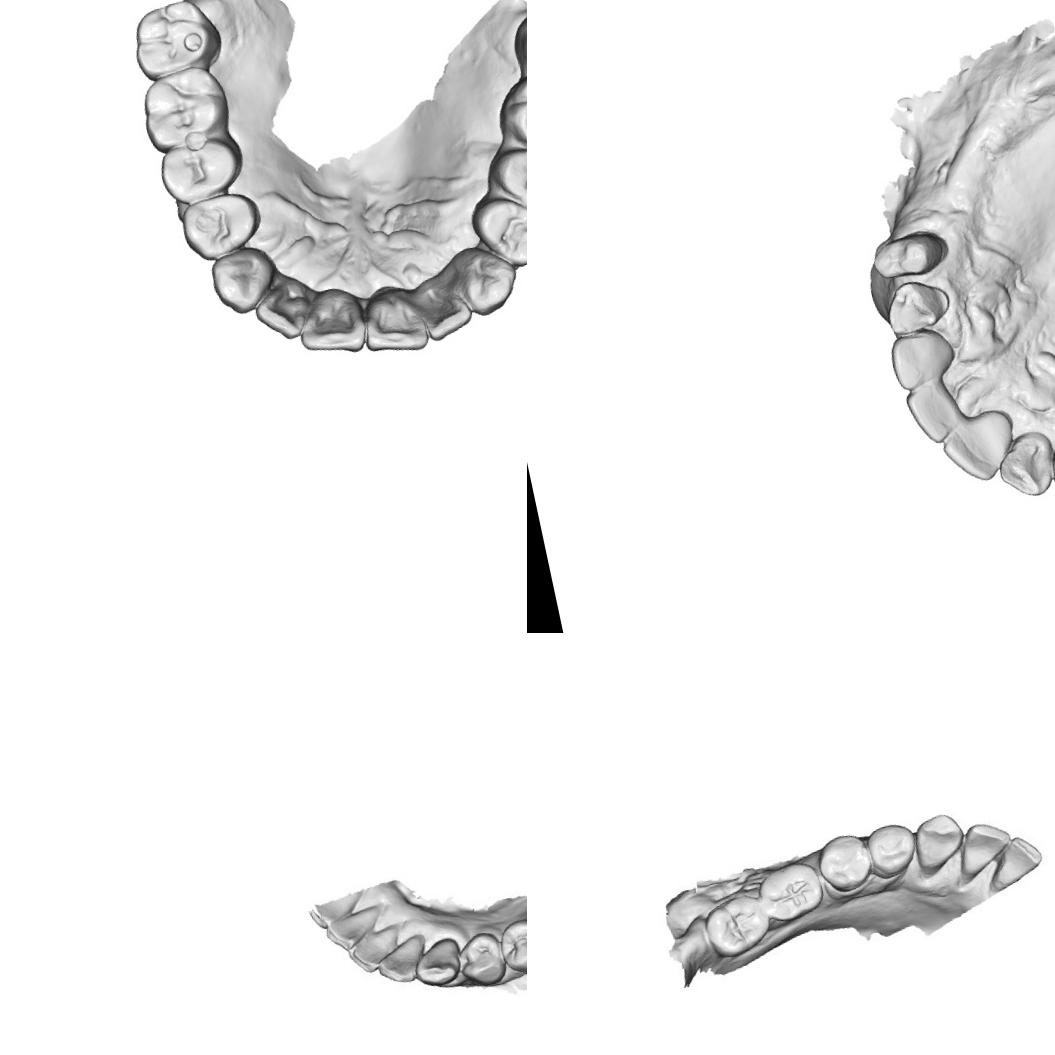canine: (204, 242, 282, 318), (878, 272, 957, 341), (454, 241, 522, 320), (905, 805, 966, 877), (410, 934, 466, 992), (1041, 416, 1055, 499)
crown: (866, 224, 952, 288)
incisor: (935, 405, 1023, 490), (352, 282, 435, 362), (291, 288, 376, 365), (884, 324, 961, 394), (989, 424, 1055, 504), (901, 374, 969, 450), (980, 830, 1050, 893), (250, 282, 316, 347), (416, 280, 478, 344), (953, 820, 1012, 880), (377, 933, 431, 983), (348, 925, 400, 970), (325, 904, 377, 946)
molar: (132, 60, 238, 156), (123, 0, 227, 83), (700, 888, 776, 963), (752, 856, 830, 928), (490, 64, 527, 173), (504, 0, 527, 98)
premolar: (174, 188, 268, 264), (154, 131, 247, 206), (467, 185, 527, 275), (485, 136, 527, 224), (453, 928, 511, 991), (864, 820, 922, 878), (816, 834, 875, 891), (500, 920, 527, 980)
